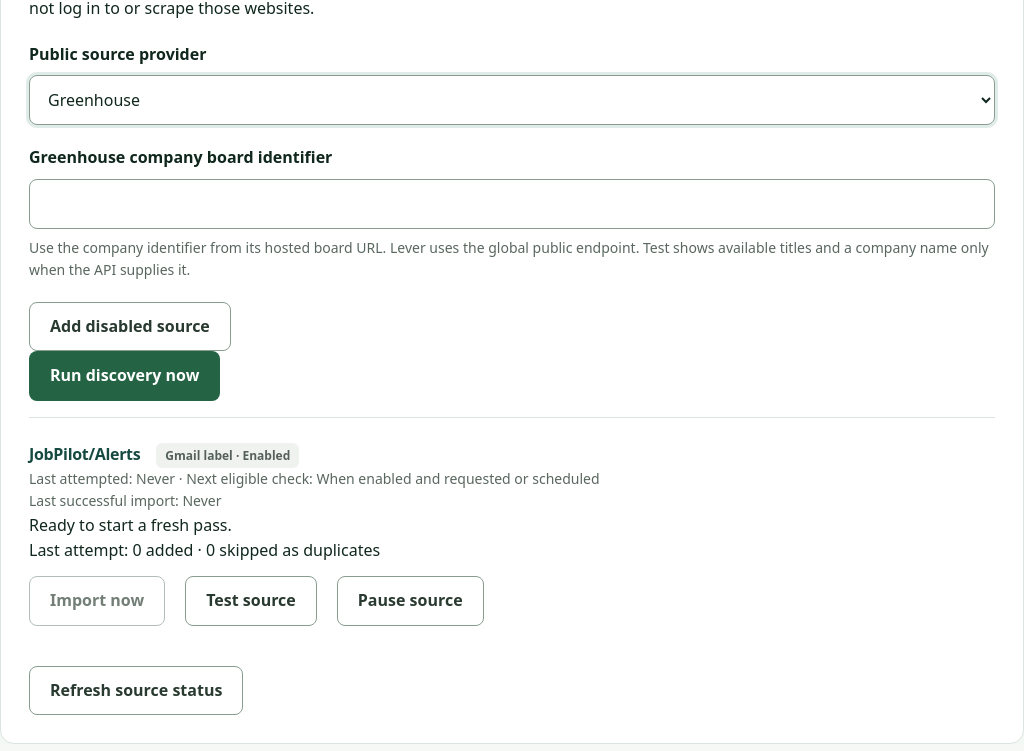
it: Phase 3 UI with mocked Supabase and inert fixtures › keeps failed reads visibly unavailable and does not expose raw error details
(page scrolled)
Click the button "Refresh source status".
click(136, 690)  # box [29,666,243,715]
(page scrolled)
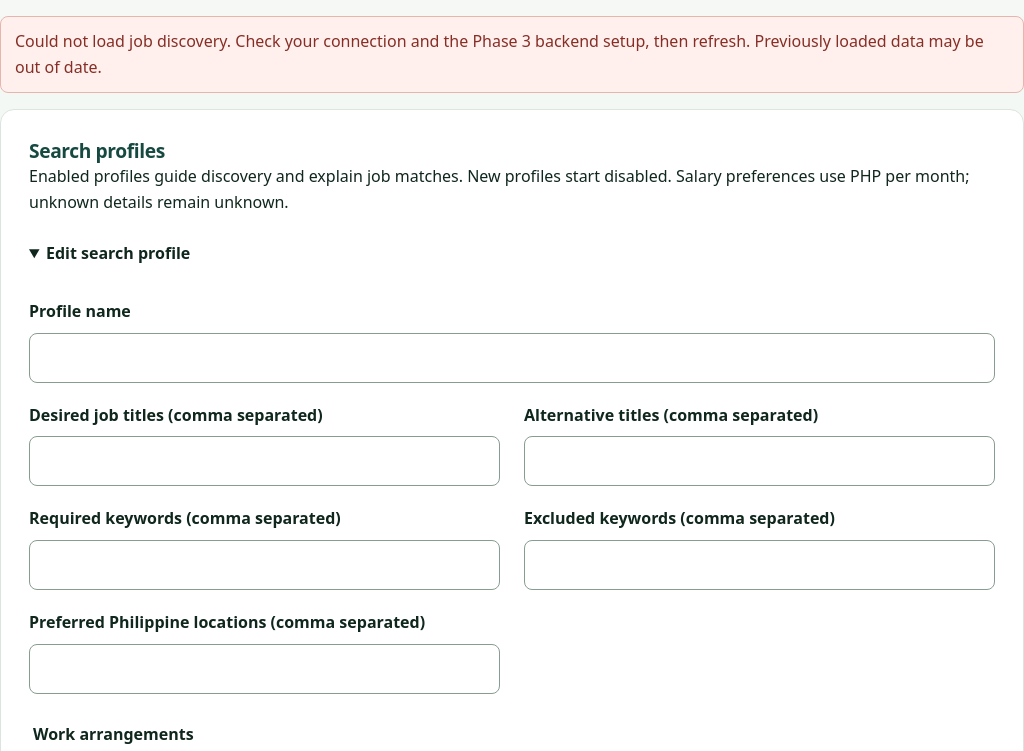
Expected: the message is shown, [0,16,1023,93]
Expected: the text "Previously loaded data may be out of date" is shown, [15,30,984,78]
